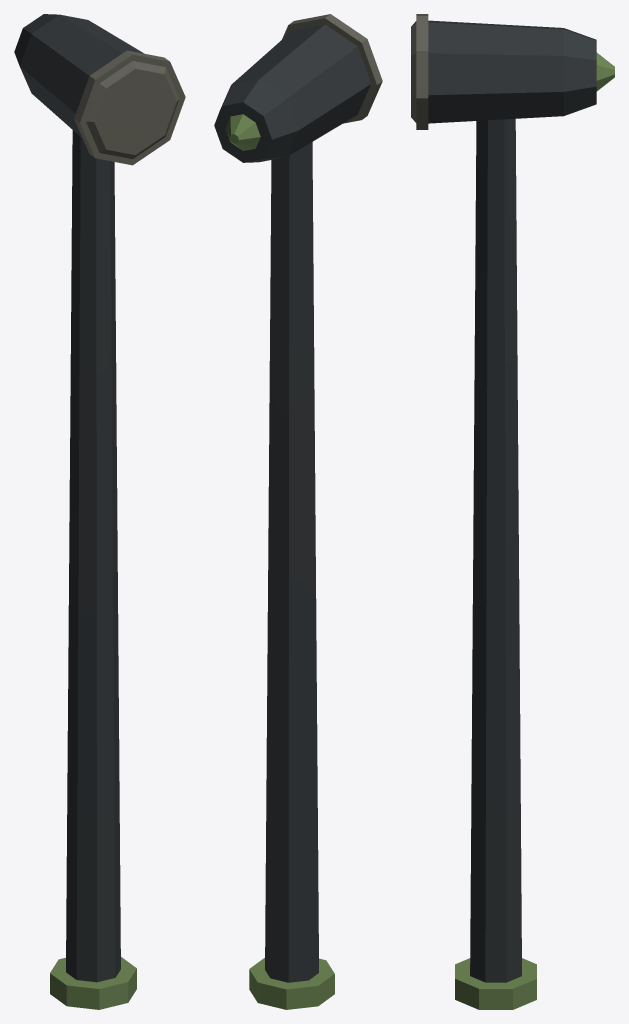
The model's file is Windmill_01.fbx.
3 views of the same model, side by side, from view 1: azimuth 30°, elevation 25°; view 2: azimuth 150°, elevation 25°; view 3: azimuth 270°, elevation 25° (orthographic). The views are drawn at different scales.
Visible parts, largest first — view 1: Windmill_01; view 2: Windmill_01; view 3: Windmill_01.
Part boxes in pixels (x1=…): Windmill_01: x1=14, y1=14, x2=185, y2=1009; Windmill_01: x1=214, y1=14, x2=382, y2=1009; Windmill_01: x1=411, y1=14, x2=614, y2=1009.
Bounding box in the file's own units: 0.9126 × 7.96 × 1.51.
